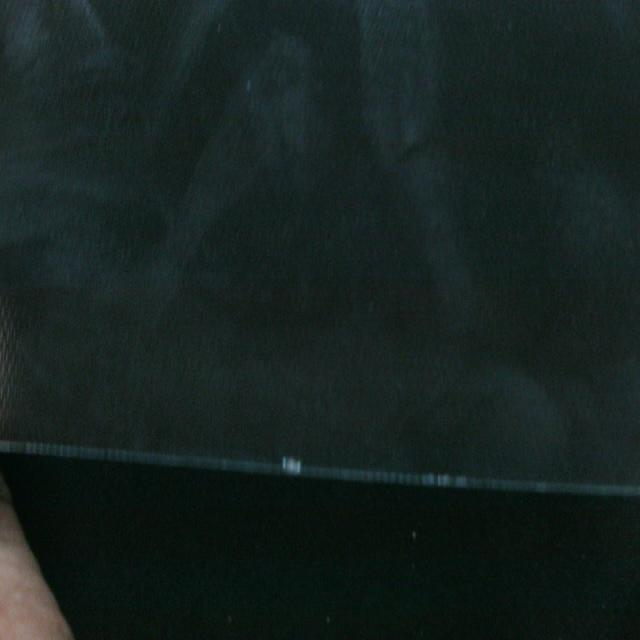edge_chip: (272, 445, 308, 480)
